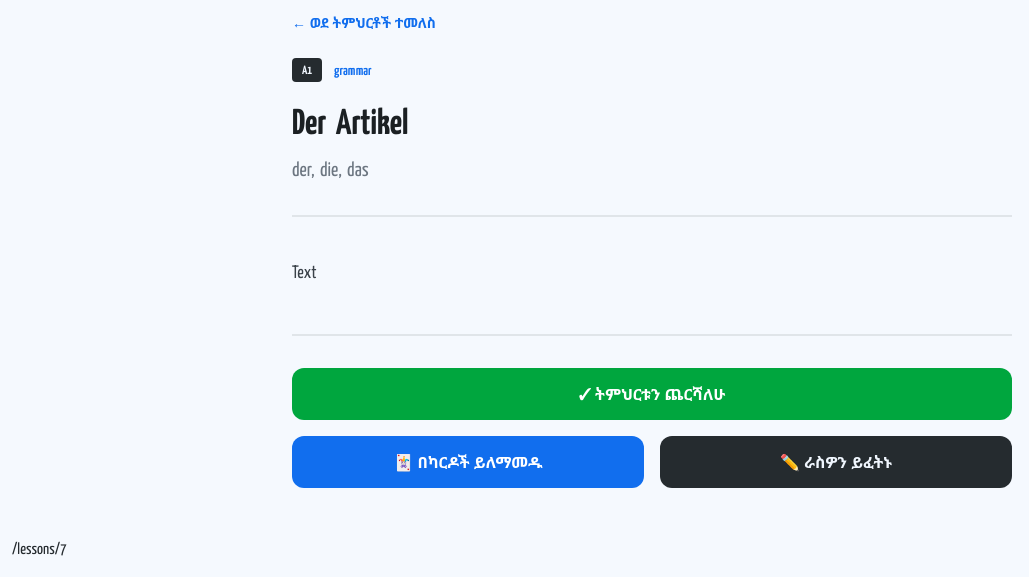
Test: LessonDetail › lets a logged-in user mark the lesson complete
The width and height of the screenshot is (1029, 577).
What coordinates should you click on to do the following:
click the button "✓ ትምህርቱን ጨርሻለሁ"
I would click on:
 (652, 394)
Its box is [292,368,1012,420].
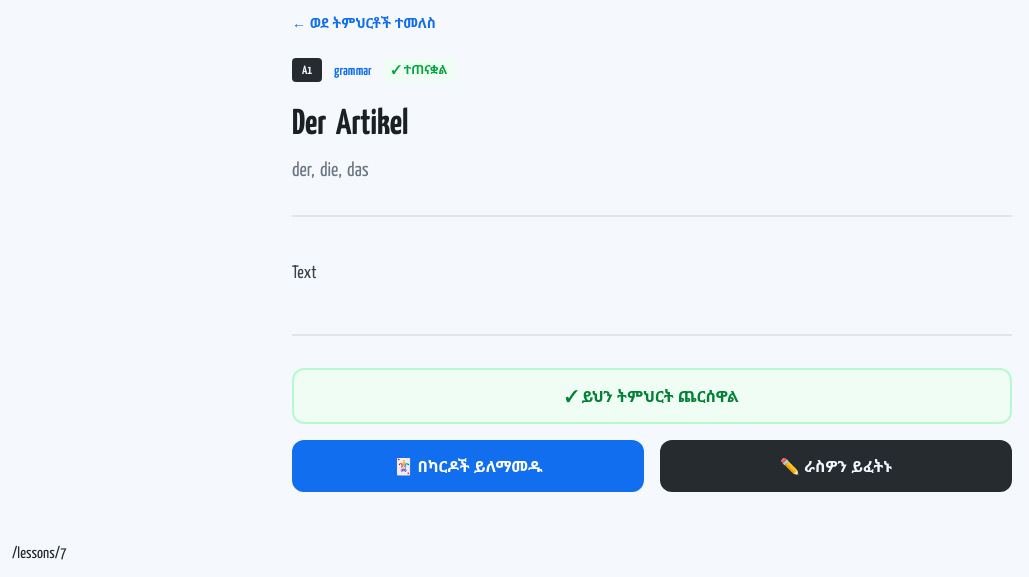
Result: the text "✓ ይህን ትምህርት ጨርሰዋል" is shown at [292,368,1012,424]
